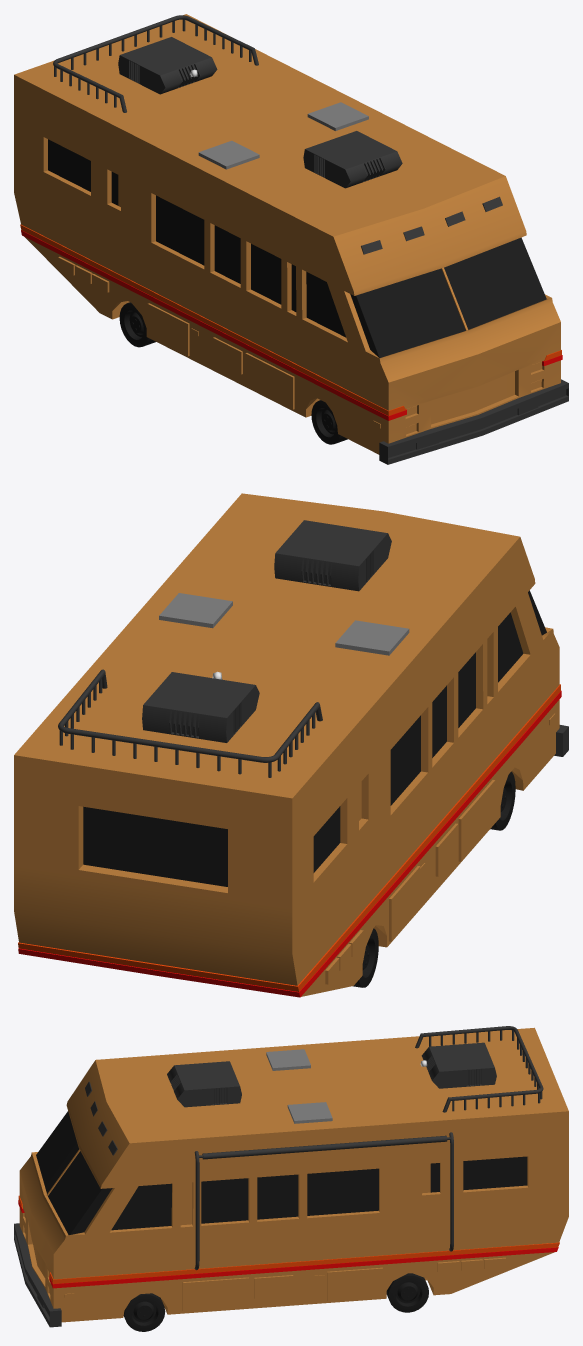
The model's file is VanBBad.FBX.
The picture shows the model from 3 angles, top to bottom: view 1: azimuth 30°, elevation 25°; view 2: azimuth 150°, elevation 25°; view 3: azimuth 270°, elevation 25°; orthographic projection. The views are drawn at different scales.
Visible parts, largest first — view 1: Box004, Group001, Box007, Box008, Box009, Line002, Box006, Box005, Cylinder006, Cylinder005; view 2: Box004, Group001, Box009, Box008, Line002, Box006, Box005, Cylinder006, Cylinder005; view 3: Box004, Group001, Box008, Box009, Line001, Line002, Box007, Cylinder008, Cylinder007, Box005, Box006.
Boxes of the visible parts, <box> form: Box004: <box>14,14,560,454</box>; Group001: <box>20,224,562,420</box>; Box007: <box>379,379,568,464</box>; Box008: <box>303,131,402,188</box>; Box009: <box>118,37,217,94</box>; Line002: <box>53,15,258,112</box>; Box006: <box>198,140,259,169</box>; Box005: <box>307,102,368,130</box>; Cylinder006: <box>119,302,155,347</box>; Cylinder005: <box>311,400,347,444</box>; Box004: <box>14,493,559,996</box>; Group001: <box>18,684,561,997</box>; Box009: <box>142,672,259,742</box>; Box008: <box>274,520,391,591</box>; Line002: <box>58,669,322,777</box>; Box006: <box>335,620,409,655</box>; Box005: <box>159,593,232,628</box>; Cylinder006: <box>353,928,378,987</box>; Cylinder005: <box>490,771,515,830</box>; Box004: <box>19,1027,568,1322</box>; Group001: <box>18,1195,559,1288</box>; Box008: <box>167,1061,241,1107</box>; Box009: <box>421,1042,496,1088</box>; Line001: <box>194,1132,453,1270</box>; Line002: <box>415,1026,543,1112</box>; Box007: <box>14,1223,61,1327</box>; Cylinder008: <box>386,1273,428,1312</box>; Cylinder007: <box>123,1293,165,1331</box>; Box005: <box>287,1102,332,1123</box>; Box006: <box>266,1049,310,1070</box>.
Size of the model in its own units: 75.24 by 59.78 by 143.
